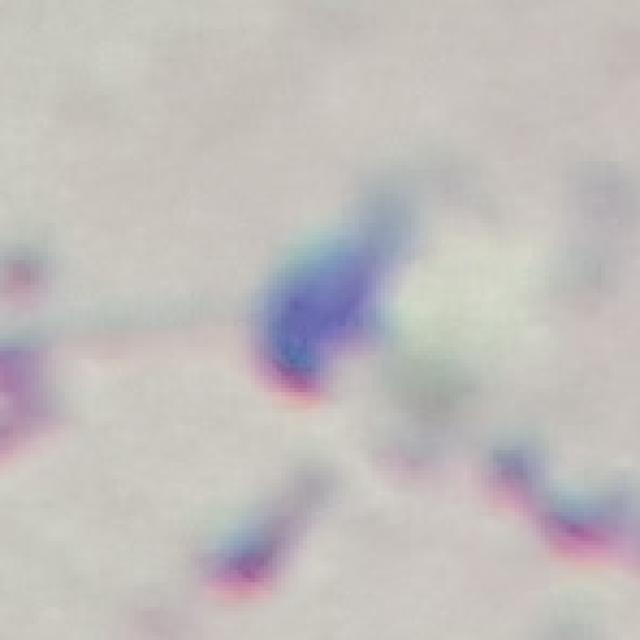non-sperm: (248, 222, 394, 394)
